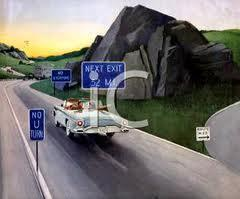car: (49, 94, 128, 143)
